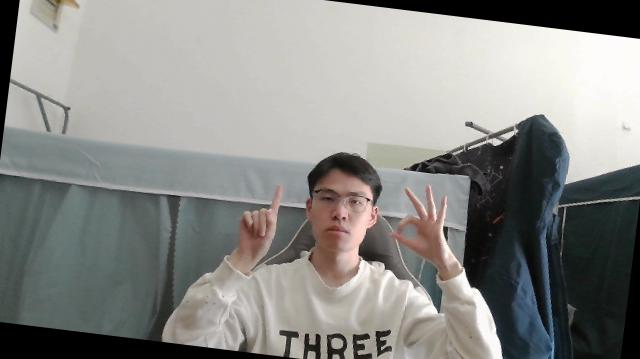ok: (390, 182, 456, 268)
one: (236, 179, 284, 261)
